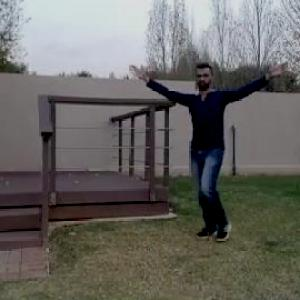takeoff: (136, 65, 299, 249)
